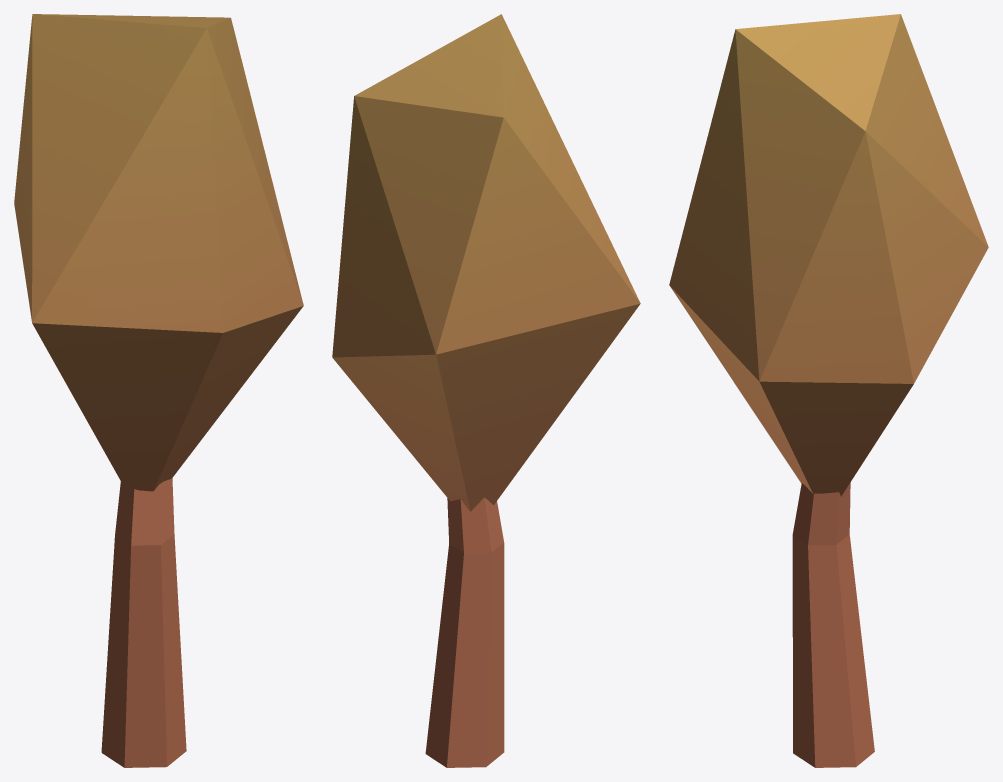
Rendered from Tree_08_gradient_yellow_vc.fbx.
3 views of the same model, side by side, from view 1: azimuth 30°, elevation 25°; view 2: azimuth 150°, elevation 25°; view 3: azimuth 270°, elevation 25° (orthographic). The views are drawn at different scales.
Parts seen in each view (by area): view 1: Tree_08_gradient_yellow_vc; view 2: Tree_08_gradient_yellow_vc; view 3: Tree_08_gradient_yellow_vc.
Boxes of the visible parts, x1,y1,x2,y2 form: Tree_08_gradient_yellow_vc: (14,14,303,767); Tree_08_gradient_yellow_vc: (332,14,640,767); Tree_08_gradient_yellow_vc: (669,14,988,767).
Bounding box in the file's own units: 93.3 × 249 × 98.84.
